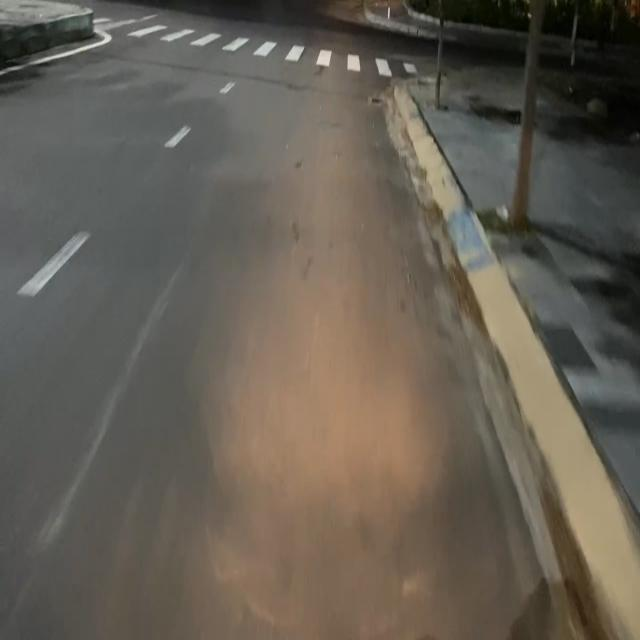walk-crossing: (109, 28, 415, 76)
